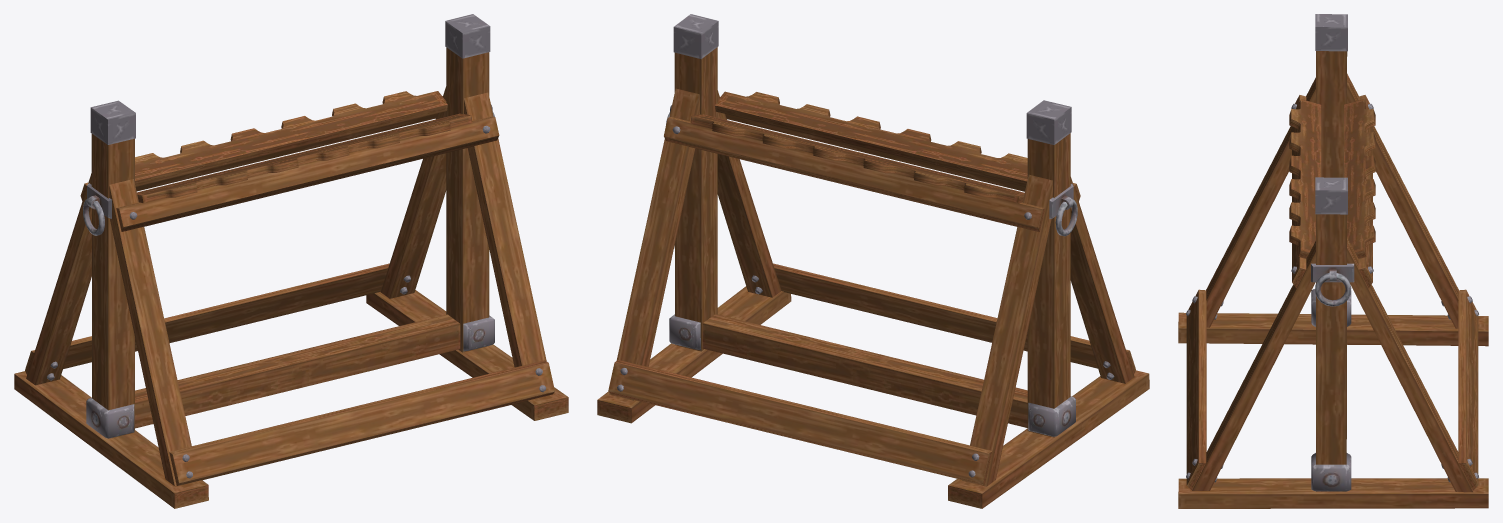
The model's file is prop_weaponstand.glb.
3 renders of one model, left to right at view 1: azimuth 30°, elevation 25°; view 2: azimuth 150°, elevation 25°; view 3: azimuth 270°, elevation 25°, orthographic. The views are drawn at different scales.
Visible parts, largest first — view 1: WeaponStand; view 2: WeaponStand; view 3: WeaponStand.
Boxes of the visible parts, x1=… form: WeaponStand: x1=14, y1=14, x2=568, y2=508; WeaponStand: x1=597, y1=14, x2=1149, y2=508; WeaponStand: x1=1178, y1=14, x2=1488, y2=508.
Size of the model in its own units: 1.39 by 1.11 by 0.9831.
2 materials, 2 textured.
